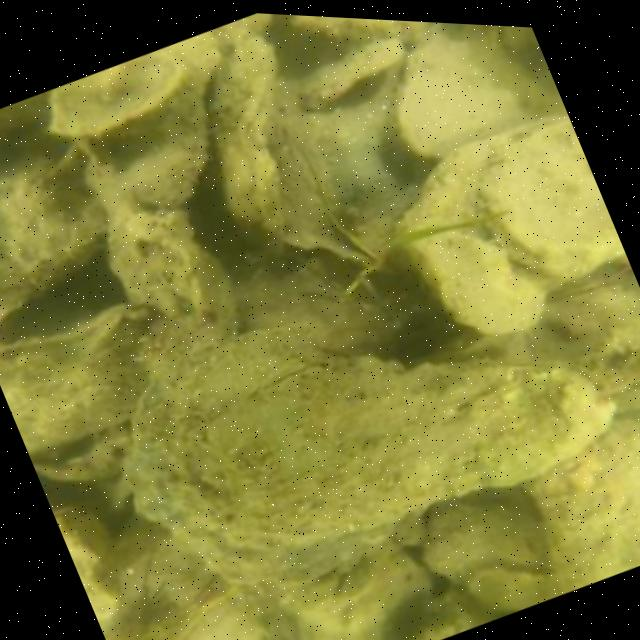Oyster-Closed: (189, 347, 631, 537)
Oyster-Indeterminate: (117, 325, 362, 589), (209, 35, 328, 242), (97, 35, 218, 211), (396, 23, 561, 150), (526, 420, 640, 593), (482, 122, 597, 280), (418, 233, 543, 335), (421, 490, 541, 577), (293, 15, 426, 41)
